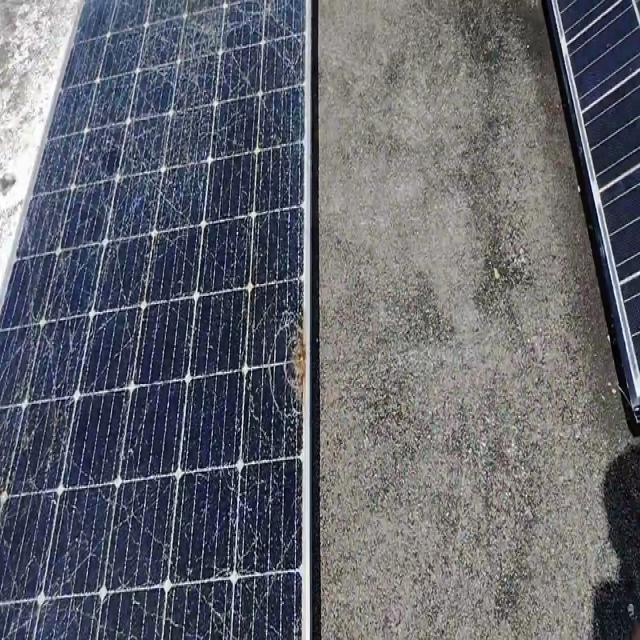Normal Solar Panel: (546, 0, 640, 429)
